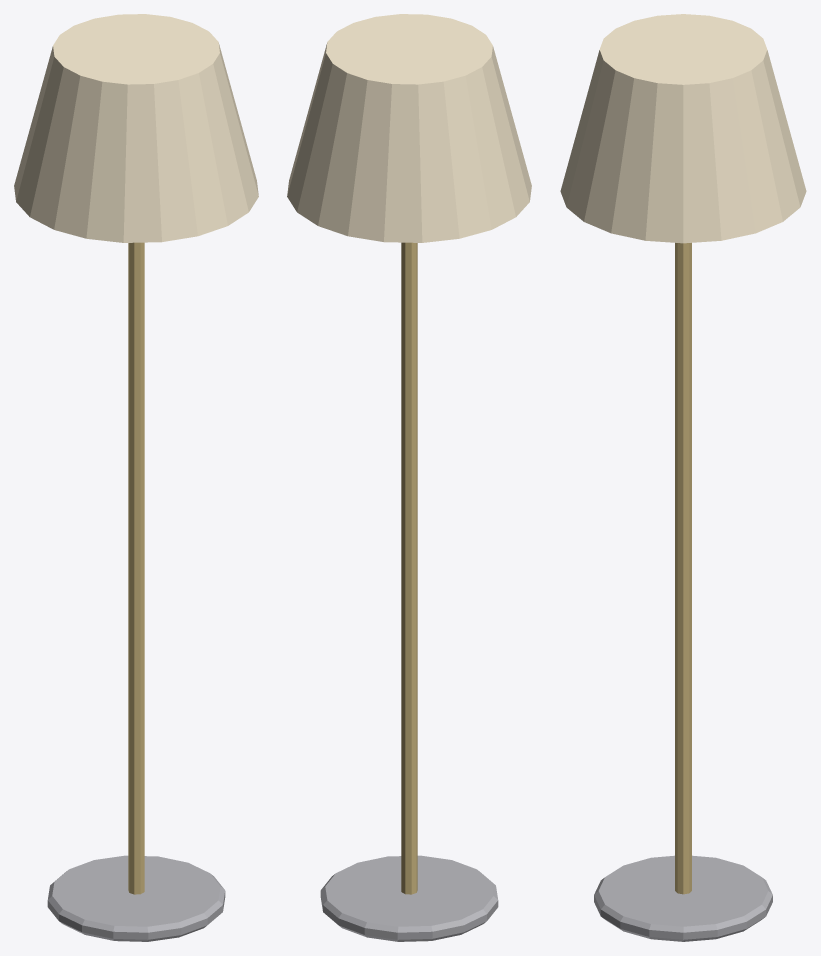
The model's file is floor_lamp.fbx.
The picture shows the model from 3 angles, left to right: view 1: azimuth 30°, elevation 25°; view 2: azimuth 150°, elevation 25°; view 3: azimuth 270°, elevation 25°; orthographic projection.
Visible parts, largest first — view 1: Shade, Body; view 2: Shade, Body; view 3: Shade, Body.
Part boxes in pixels (left/top/right/bottom): Shade: left=14, top=14, right=258, bottom=242; Body: left=47, top=242, right=225, bottom=941; Shade: left=287, top=14, right=531, bottom=242; Body: left=320, top=242, right=498, bottom=941; Shade: left=560, top=14, right=806, bottom=243; Body: left=594, top=243, right=772, bottom=941.
Size of the model in its own units: 0.44 by 1.69 by 0.44.
